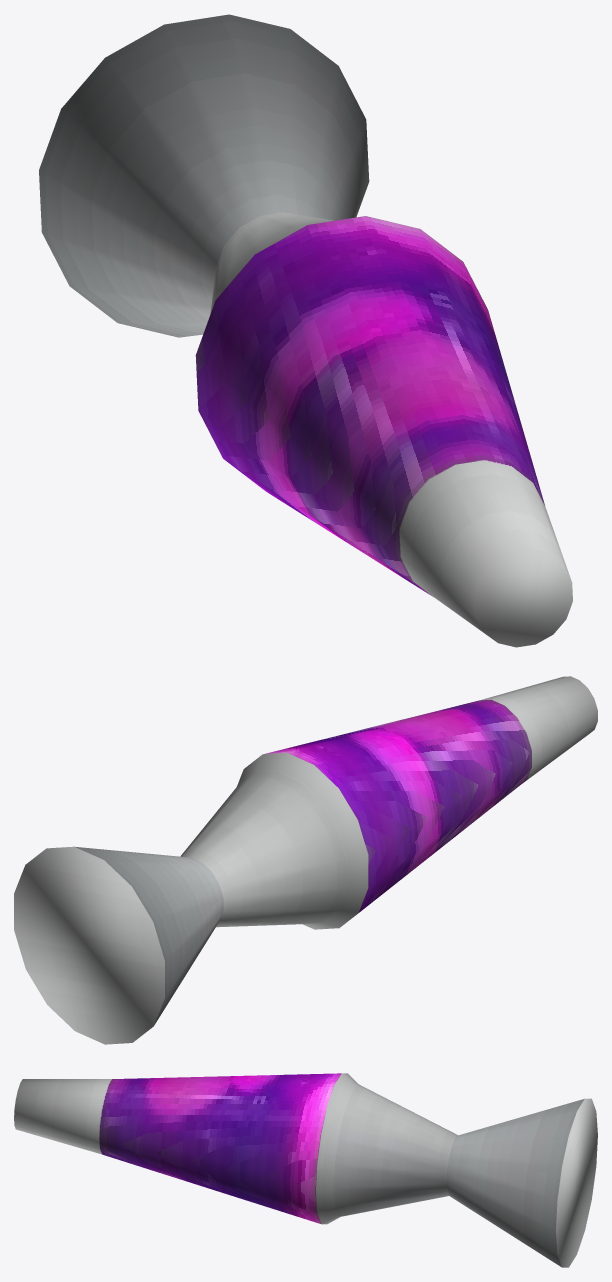
Rendered from HC_LavaLamp.fbx.
The picture shows the model from 3 angles, top to bottom: view 1: azimuth 30°, elevation 25°; view 2: azimuth 150°, elevation 25°; view 3: azimuth 270°, elevation 25°; orthographic projection. The views are drawn at different scales.
Parts seen in each view (by area): view 1: LavaLamp; view 2: LavaLamp; view 3: LavaLamp.
Boxes of the visible parts, x1=… form: LavaLamp: x1=39, y1=14, x2=572, y2=647; LavaLamp: x1=14, y1=676, x2=597, y2=1044; LavaLamp: x1=14, y1=1073, x2=597, y2=1267.
Bounding box in the file's own units: 0.1056 × 0.0744 × 0.2519.
